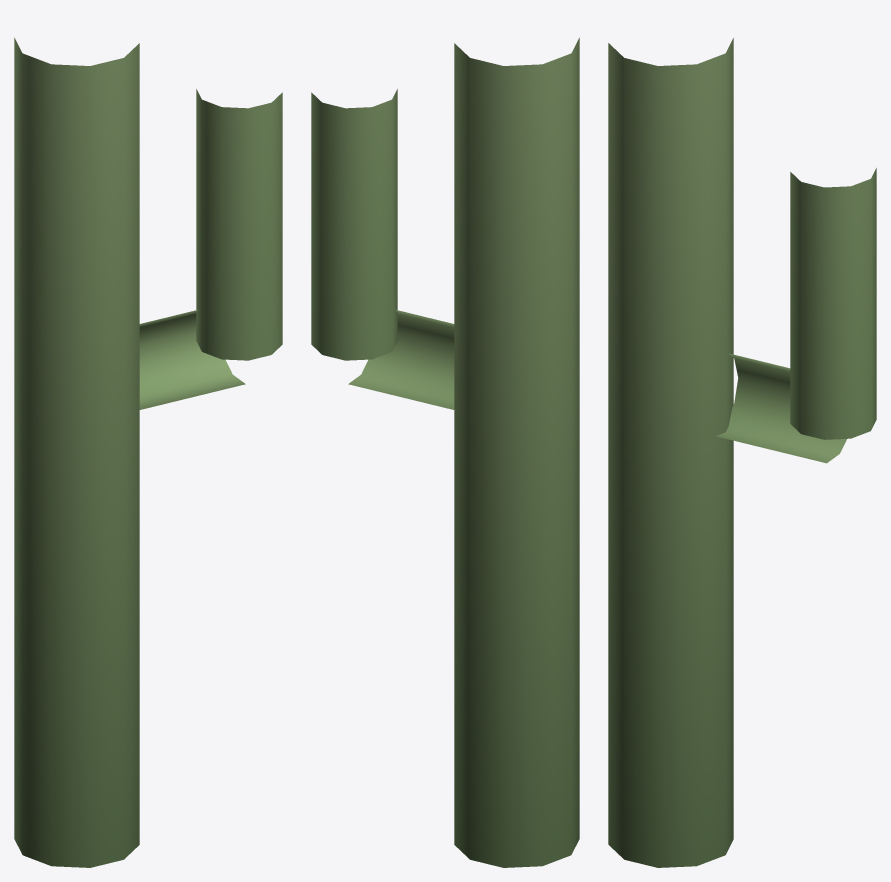
File: cactus_saguaro_b.glb
3 views of the same model, side by side, from view 1: azimuth 30°, elevation 25°; view 2: azimuth 150°, elevation 25°; view 3: azimuth 330°, elevation 25° (orthographic).
Visible parts, largest first — view 1: cactus; view 2: cactus; view 3: cactus.
Boxes of the visible parts, box(x1,y1,x2,y2) form: cactus: box(14, 37, 282, 867); cactus: box(311, 37, 579, 867); cactus: box(608, 38, 876, 867).
Bounding box in the file's own units: 1.03 × 3.1 × 0.4198.
